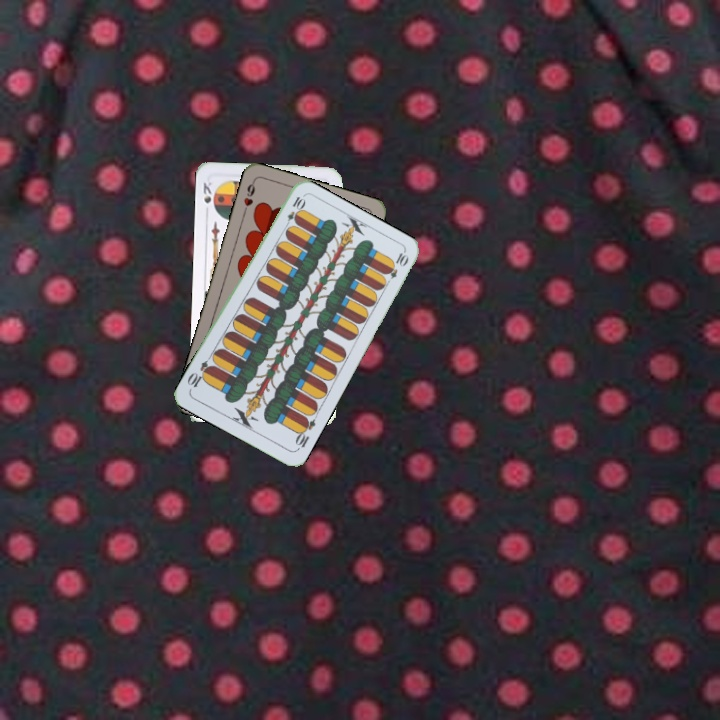E10: (291, 413, 318, 453), (281, 192, 307, 231)
H9: (239, 177, 258, 217)
SK: (199, 178, 214, 217)
